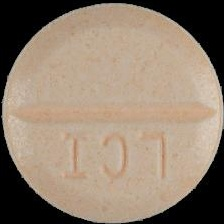50436-3922: (0, 0, 224, 224)
